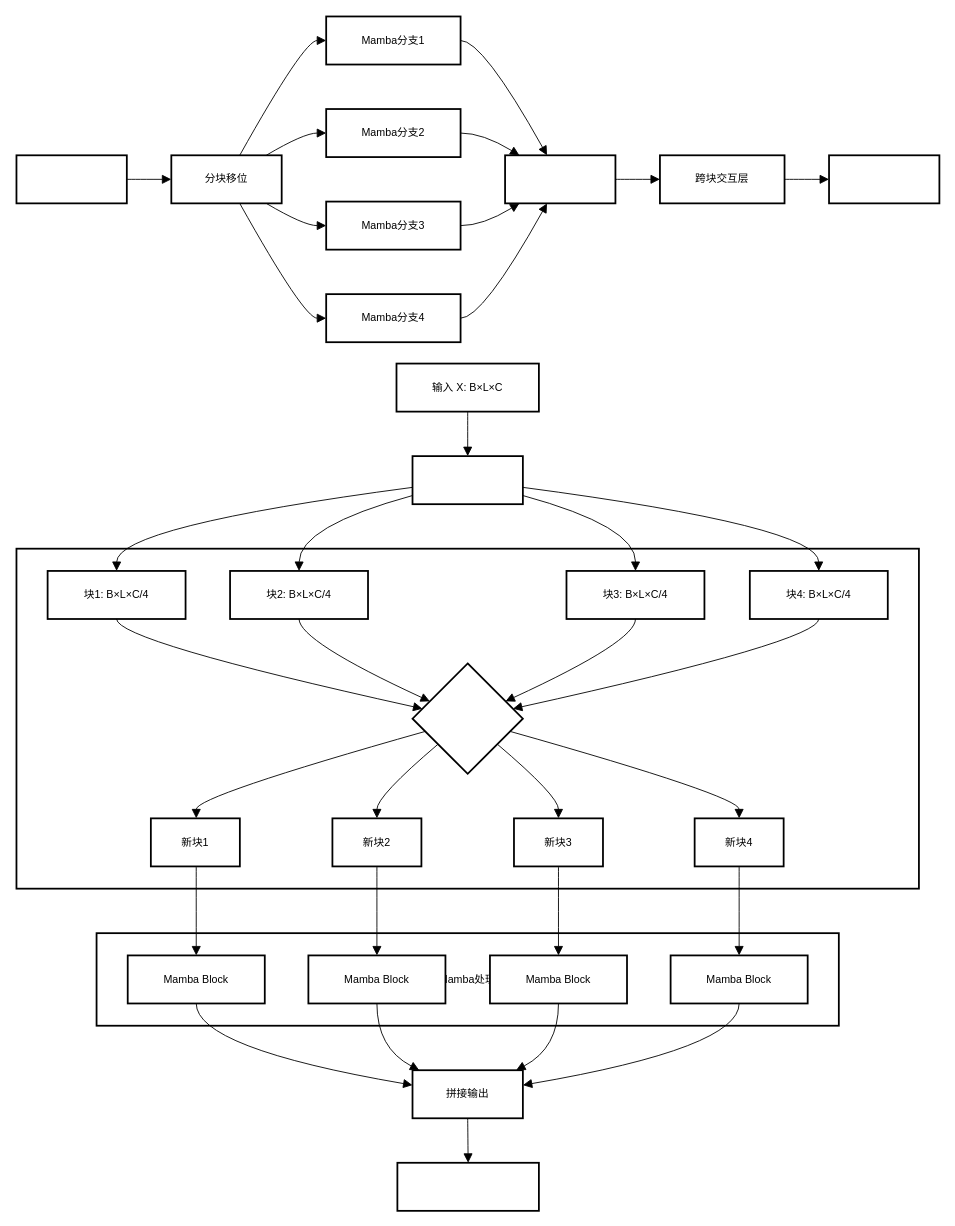
The diagram is 955 pixels wide and 1226 high, and some of its shapes have lost their labels. The centre of each missing label's shape, as x and y in pixels:
"最终输出" belongs at point (884, 179).
"特征拼接" belongs at point (560, 179).
"移位参数s" belongs at point (467, 718).
"输入序列" belongs at point (71, 179).
"输出 Y: B×L×C" belongs at point (467, 1186).
"通道分块" belongs at point (467, 480).
